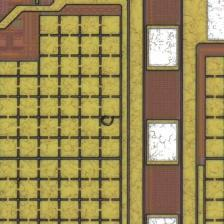COATING BAD: (97, 110, 120, 132)
